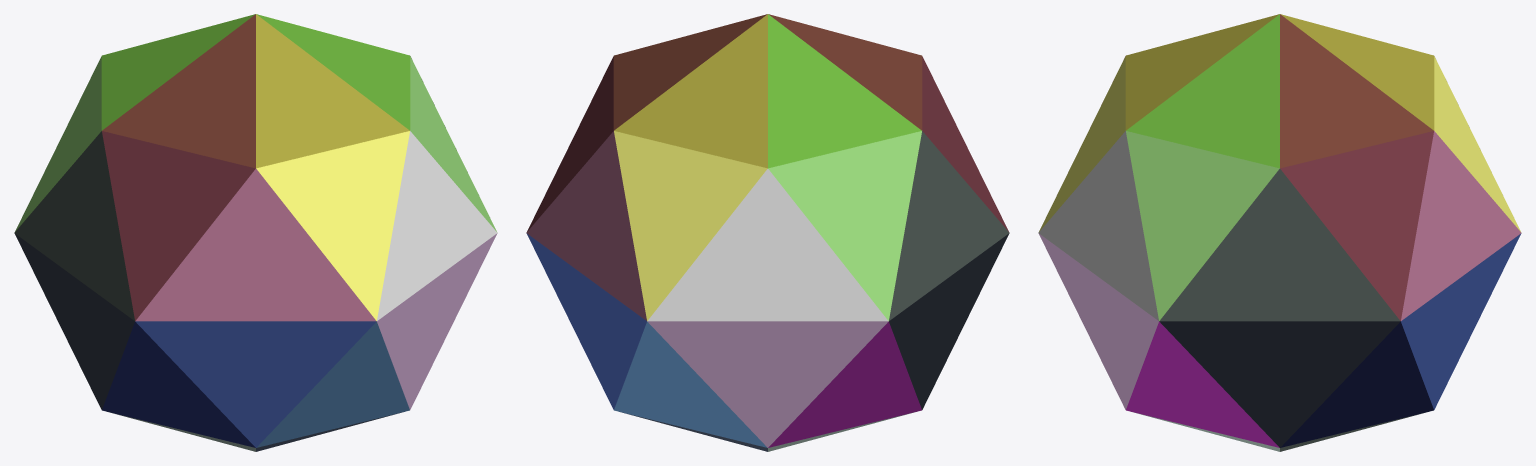
Rendered from crystal_from_croc_legend_of_the_gobbos.glb.
3 renders of one model, left to right at view 1: azimuth 30°, elevation 25°; view 2: azimuth 150°, elevation 25°; view 3: azimuth 270°, elevation 25°, orthographic.
Parts seen in each view (by area): view 1: sphere_0; view 2: sphere_0; view 3: sphere_0.
Part boxes in pixels (left/top/right/bottom): sphere_0: left=14, top=14, right=497, bottom=451; sphere_0: left=526, top=14, right=1009, bottom=451; sphere_0: left=1038, top=14, right=1521, bottom=451.
Bounding box in the file's own units: 1.17 × 1.36 × 1.36.
Materials: 1 (1 with a texture image).
